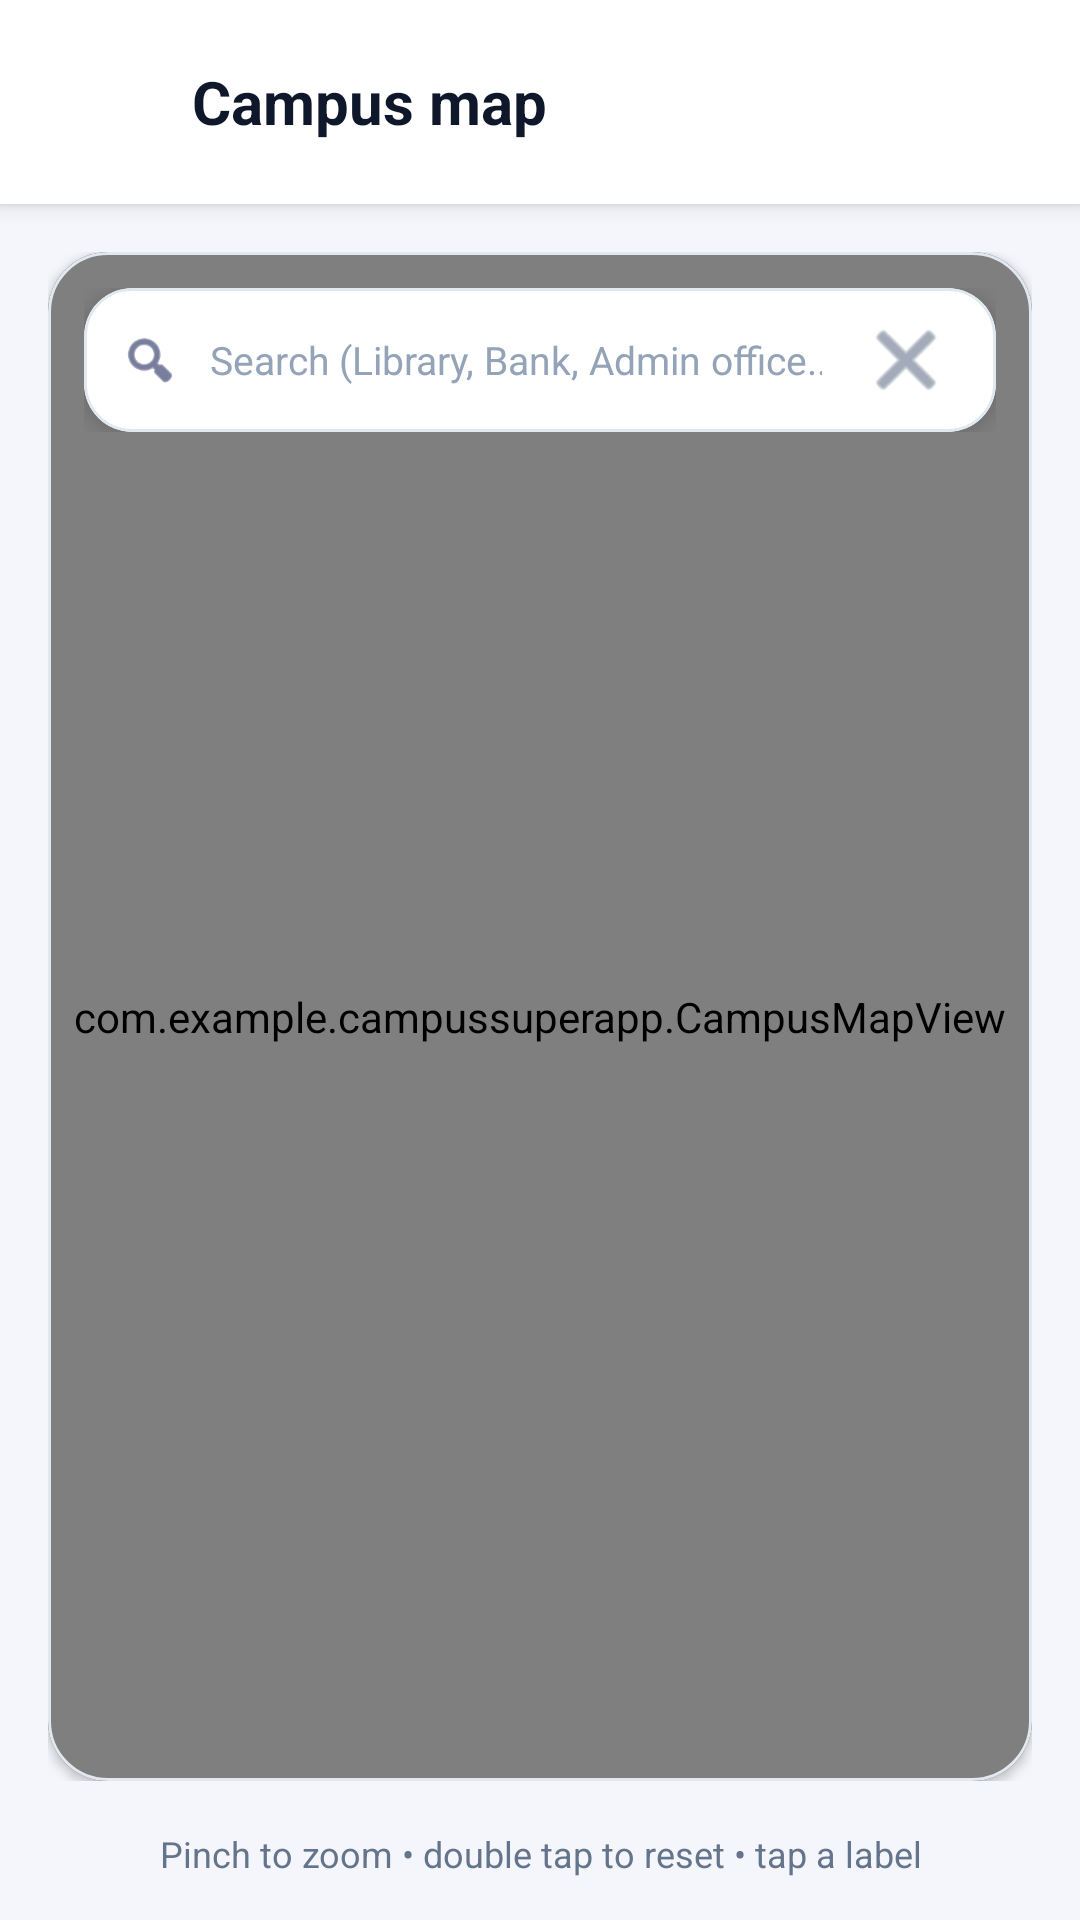

Icons on this 1080*1920 Android screen, each with the point to tap as (x=x, y=y):
Clear: (x=906, y=360)
